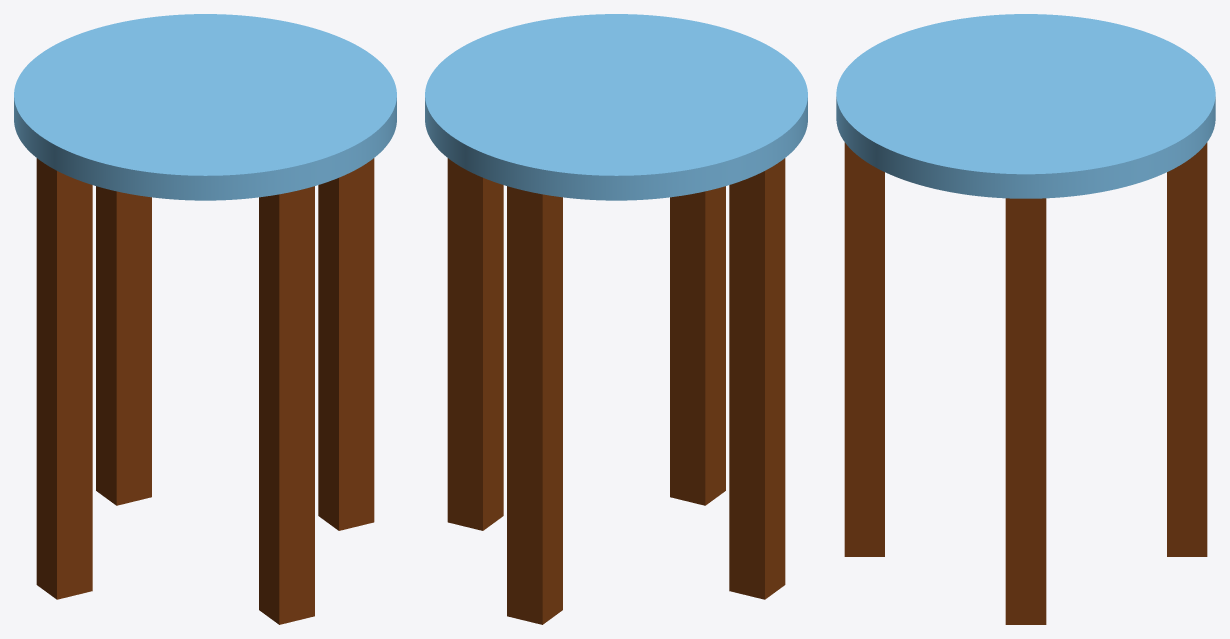
Rendered from parametrik_tabure.gltf.
3 views of the same model, side by side, from view 1: azimuth 30°, elevation 25°; view 2: azimuth 150°, elevation 25°; view 3: azimuth 270°, elevation 25° (orthographic).
Parts seen in each view (by area): view 1: TabureUstu_part, Ayak_3_part, Ayak_4_part, Ayak_1_part, Ayak_2_part; view 2: TabureUstu_part, Ayak_3_part, Ayak_2_part, Ayak_1_part, Ayak_4_part; view 3: TabureUstu_part, Ayak_1_part, Ayak_2_part, Ayak_4_part.
Part boxes in pixels (box(x1,y1,x2,y2)): TabureUstu_part: box(14, 14, 396, 200); Ayak_3_part: box(36, 158, 92, 599); Ayak_4_part: box(259, 186, 314, 624); Ayak_1_part: box(318, 158, 374, 530); Ayak_2_part: box(96, 186, 151, 505); TabureUstu_part: box(425, 14, 807, 200); Ayak_3_part: box(729, 158, 785, 599); Ayak_2_part: box(507, 186, 562, 624); Ayak_1_part: box(447, 158, 503, 530); Ayak_4_part: box(670, 186, 725, 505); TabureUstu_part: box(836, 14, 1215, 198); Ayak_1_part: box(1005, 198, 1046, 624); Ayak_2_part: box(1167, 142, 1207, 556); Ayak_4_part: box(844, 142, 884, 556).
Bounding box in the file's own units: 280 × 370 × 280.
